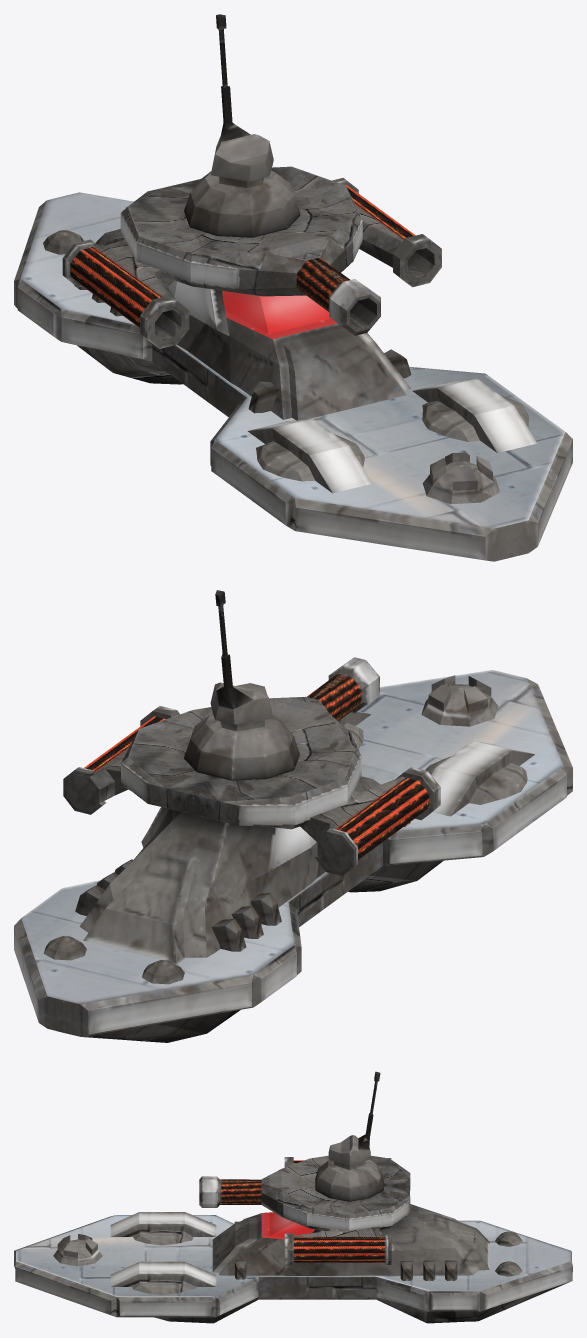
File: Huntertower.obj
The picture shows the model from 3 angles, top to bottom: view 1: azimuth 30°, elevation 25°; view 2: azimuth 150°, elevation 25°; view 3: azimuth 270°, elevation 25°; orthographic projection. The views are drawn at different scales.
Visible parts, largest first — view 1: body_Cube, turret_Cube.006; view 2: body_Cube, turret_Cube.006; view 3: body_Cube, turret_Cube.006.
Boxes of the visible parts, left/top/right/bottom form: body_Cube: left=14, top=14, right=572, bottom=561; turret_Cube.006: left=62, top=166, right=441, bottom=348; body_Cube: left=14, top=590, right=572, bottom=1042; turret_Cube.006: left=63, top=657, right=440, bottom=875; body_Cube: left=14, top=1071, right=572, bottom=1323; turret_Cube.006: left=199, top=1155, right=410, bottom=1265.
Size of the model in its own units: 3.59 by 4.64 by 9.5.
2 materials, 2 textured.
